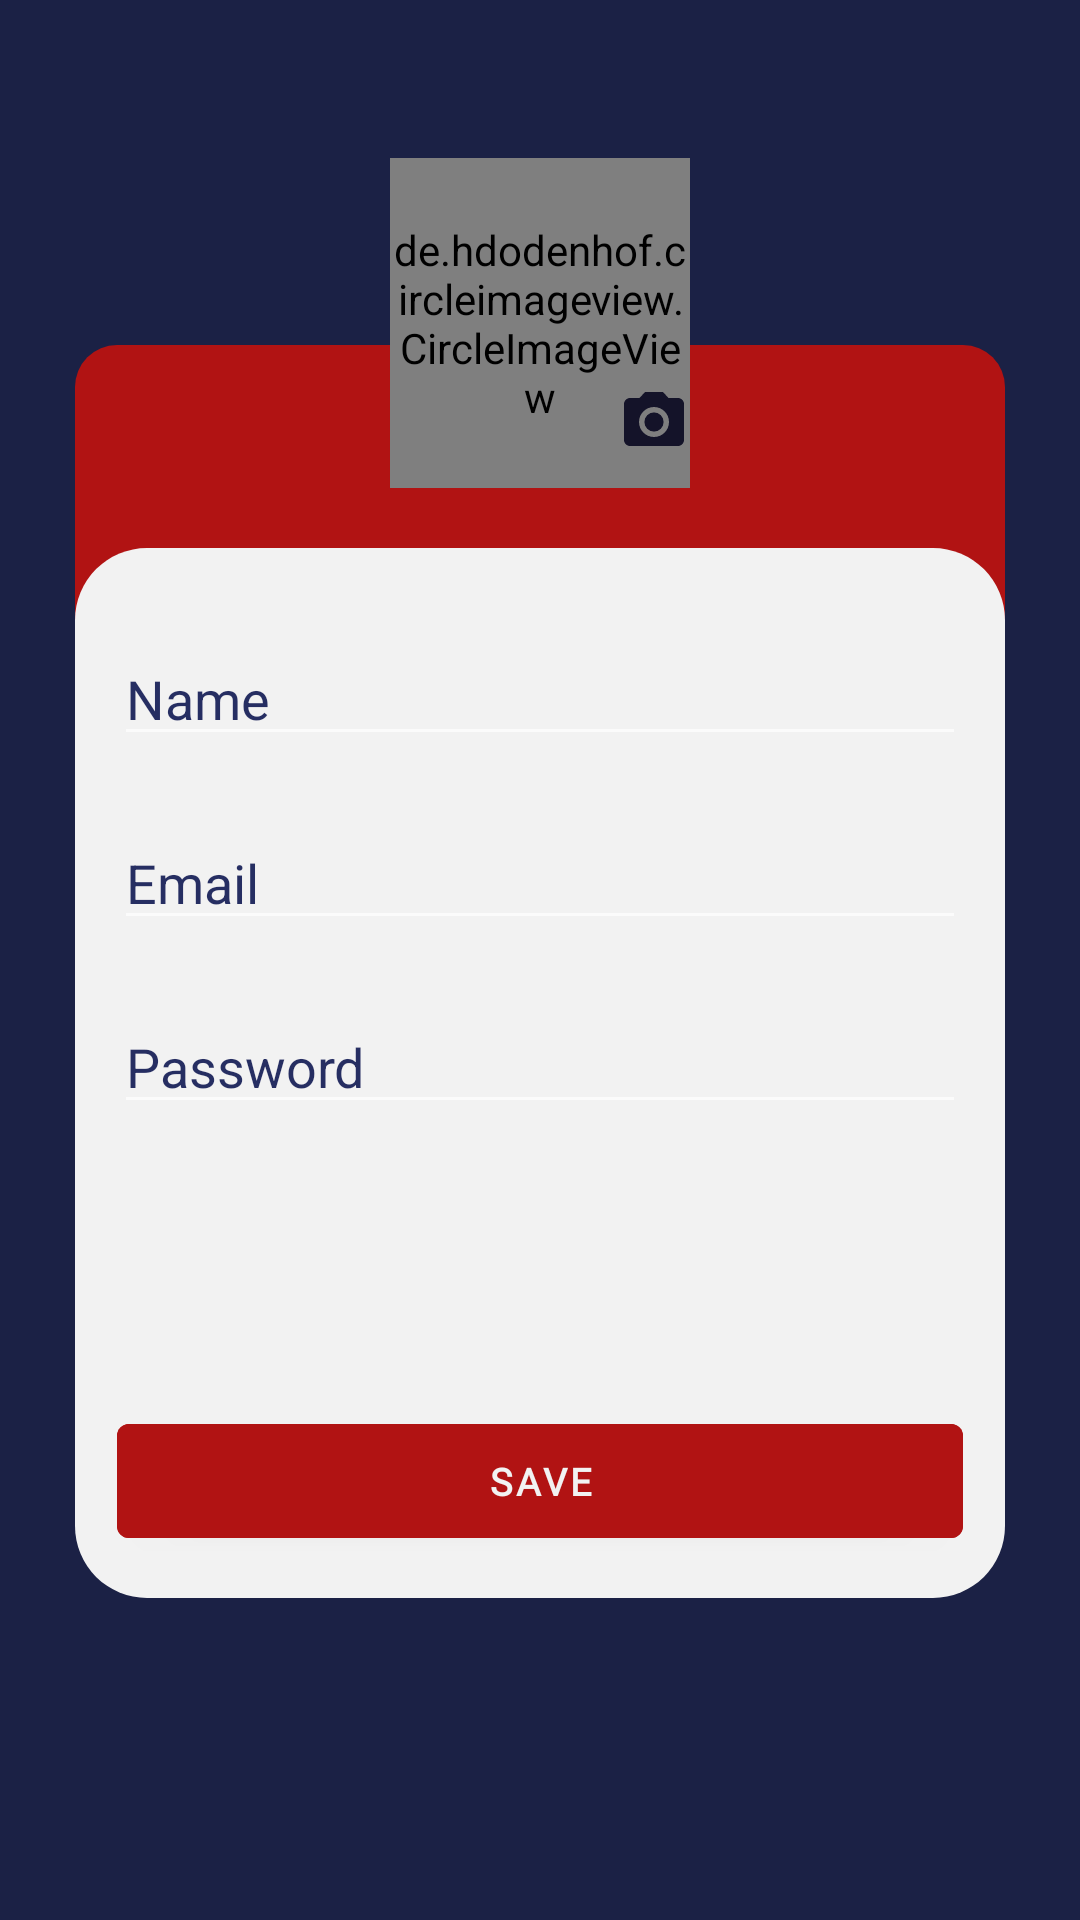

Icons on this 1080 x 1920 Android screen, each with its box as (x1, y1, x2, y2):
camera: (624, 392, 684, 446)
